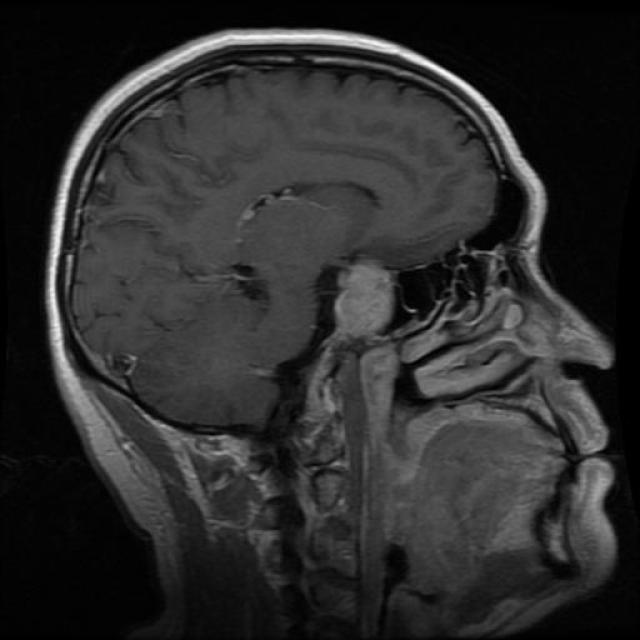Pituitary: (334, 260, 398, 339)
